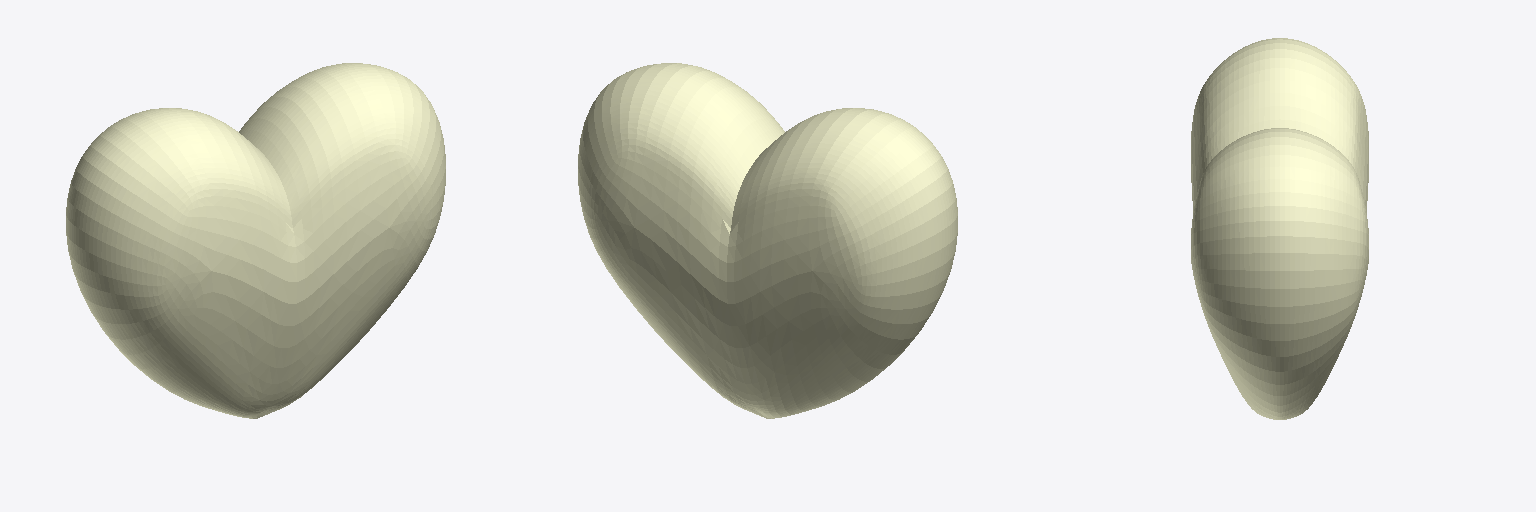
The model's file is yellow-heart.obj.
The picture shows the model from 3 angles: view 1: azimuth 30°, elevation 25°; view 2: azimuth 150°, elevation 25°; view 3: azimuth 270°, elevation 25°; orthographic projection.
Parts seen in each view (by area): view 1: Heart_HighPoly:Mesh; view 2: Heart_HighPoly:Mesh; view 3: Heart_HighPoly:Mesh.
Part boxes in pixels (left/top/right/bottom): Heart_HighPoly:Mesh: left=66, top=63, right=445, bottom=418; Heart_HighPoly:Mesh: left=578, top=63, right=957, bottom=418; Heart_HighPoly:Mesh: left=1191, top=38, right=1368, bottom=419.
Size of the model in its own units: 4.53 by 3.93 by 1.95.